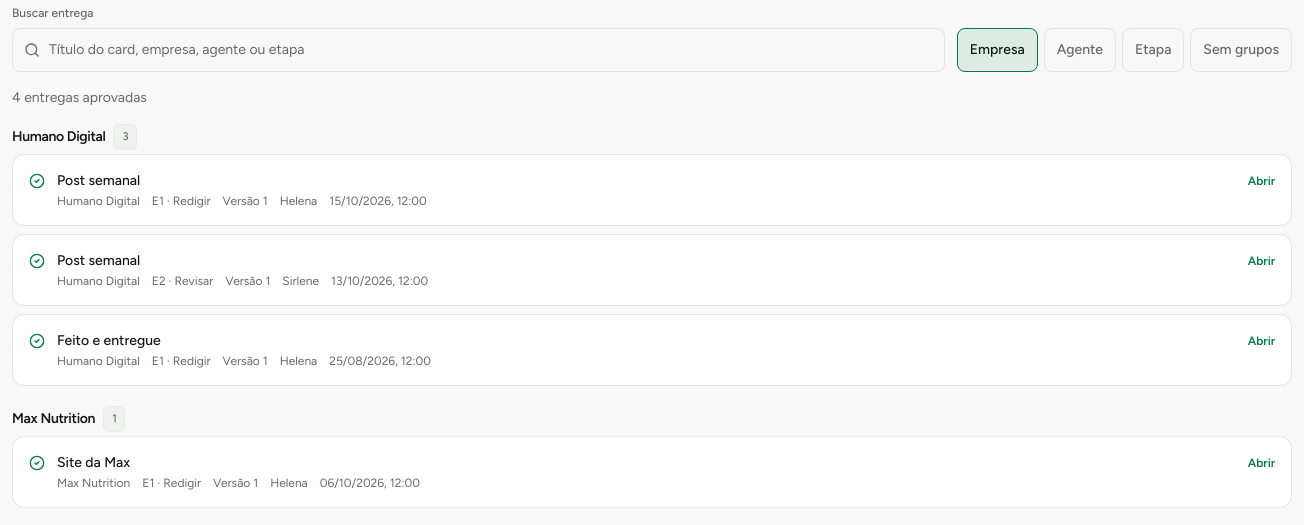
agrupa por agente e por etapa e permite tirar os grupos
This screenshot has width=1304, height=525.
Click the button "Agente" at (1080, 50), box [1044,28,1116,72]
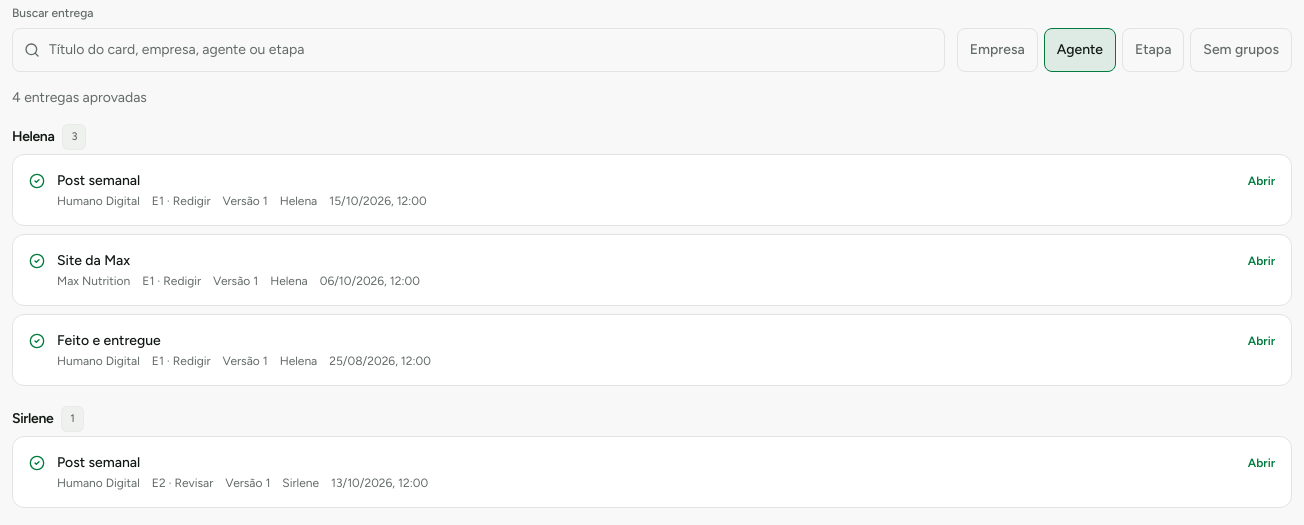
Expected: the element "Helena" is shown, [12,124,1292,386]
Expected: the element "Sirlene" is shown, [12,406,1292,508]
Click the button "Etapa" at (1153, 50), box [1122,28,1184,72]
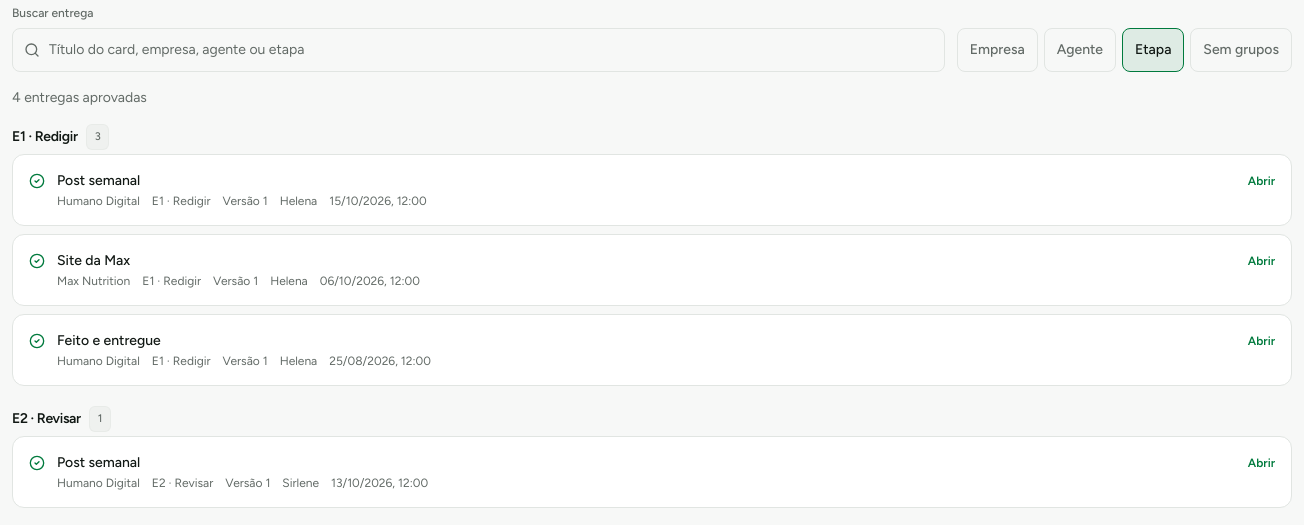
Expected: the element "E1 · Redigir" is shown, [12,124,1292,386]
Click the button "Sem grupos" at (1241, 50), box [1190,28,1292,72]
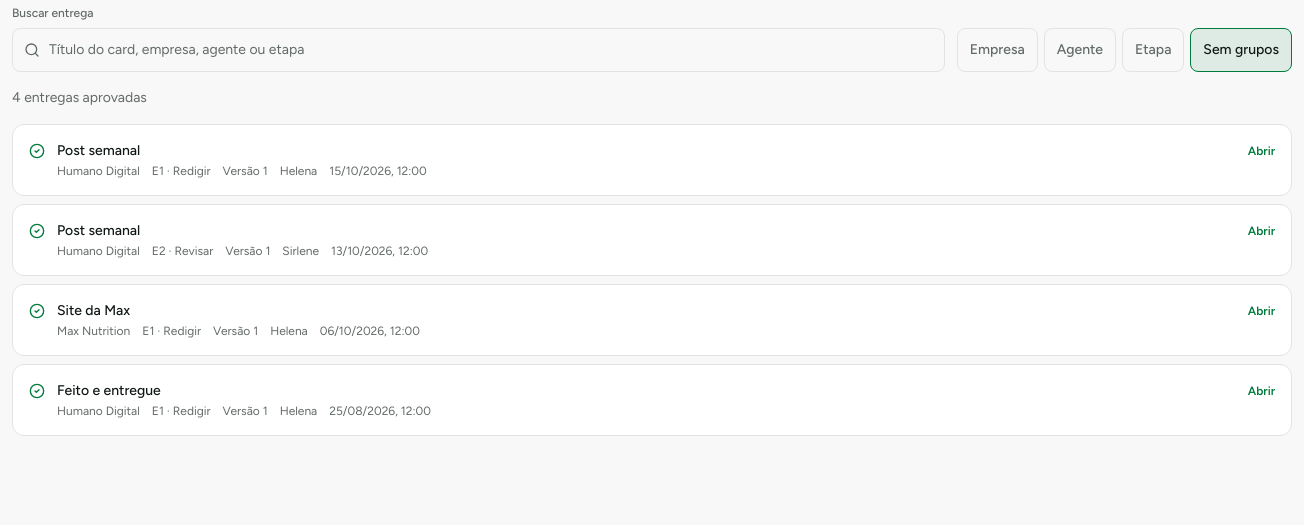
Expected: the element named "Todas as entregas" is shown, [12,124,1292,436]
